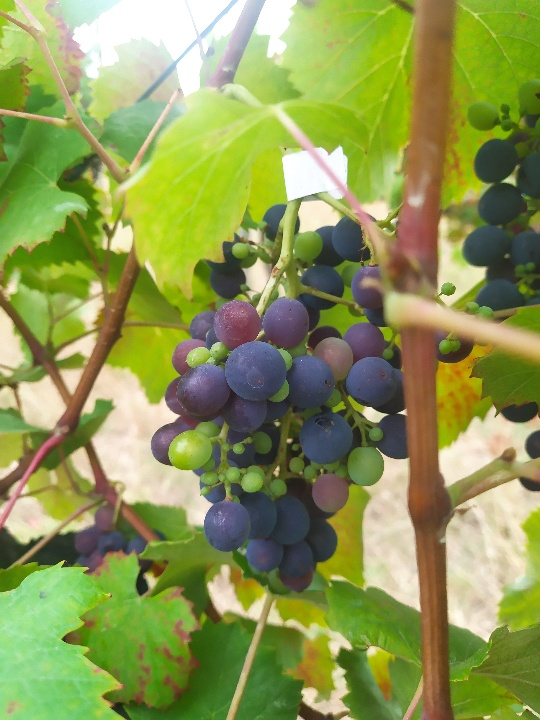grape: (148, 201, 409, 596)
